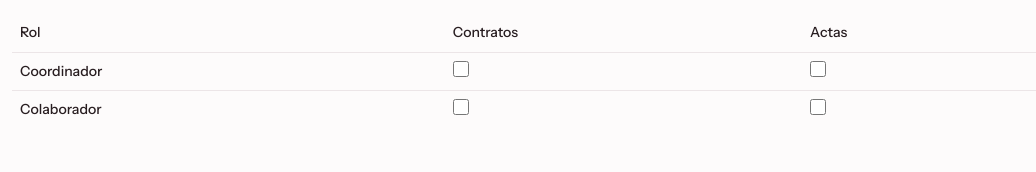
Test: CategoryGrantsEditor (task 7.1/7.2, spec document-permissions) › reverts the cell and shows the error when the server rejects the change
What coordinates should you click on to do the following:
click the checkbox named "Colaborador — Actas"
I would click on:
 (818, 106)
Its box is [810,98,826,114].
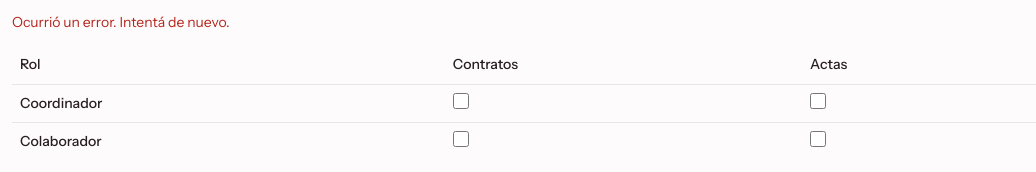
Check: the checkbox named "Colaborador — Actas" is not checked, box [810,130,826,146]
Check: the message reads "Ocurrió un error. Intentá de nuevo.", box [12,13,230,31]
